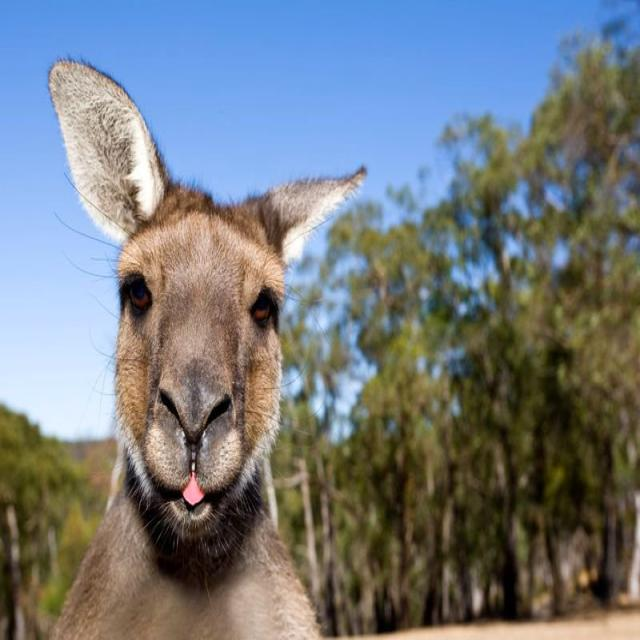kangaroo: (50, 60, 366, 639)
